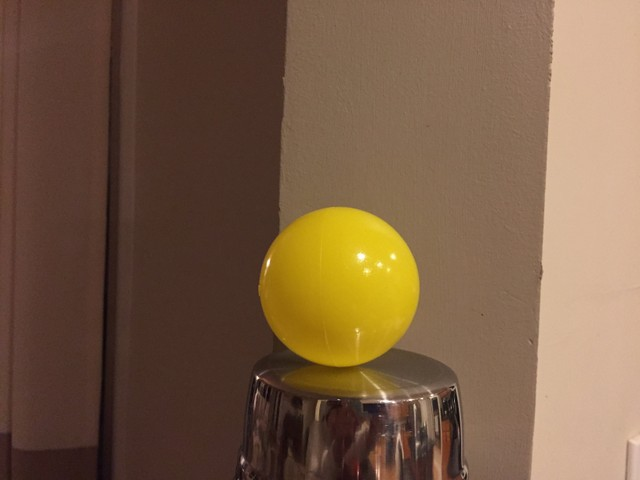Ball: (261, 207, 422, 368)
